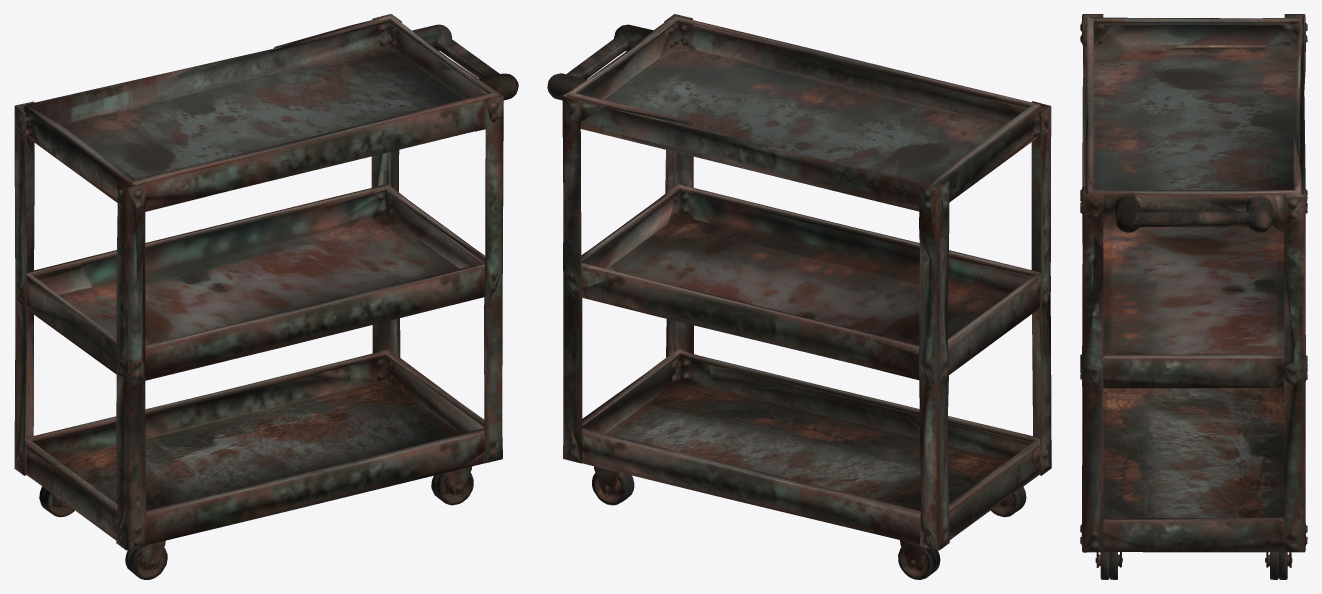
File: oficina_jimmy_peca_1.glb
The picture shows the model from 3 angles, left to right: view 1: azimuth 30°, elevation 25°; view 2: azimuth 150°, elevation 25°; view 3: azimuth 270°, elevation 25°; orthographic projection.
Parts seen in each view (by area): view 1: Mesh1.0; view 2: Mesh1.0; view 3: Mesh1.0.
Boxes of the visible parts, x1,y1,x2,y2 form: Mesh1.0: (14, 14, 518, 579); Mesh1.0: (547, 14, 1051, 579); Mesh1.0: (1080, 14, 1307, 579).
Size of the model in its own units: 1.9 by 1.78 by 0.9139.
1 material, 1 textured.
